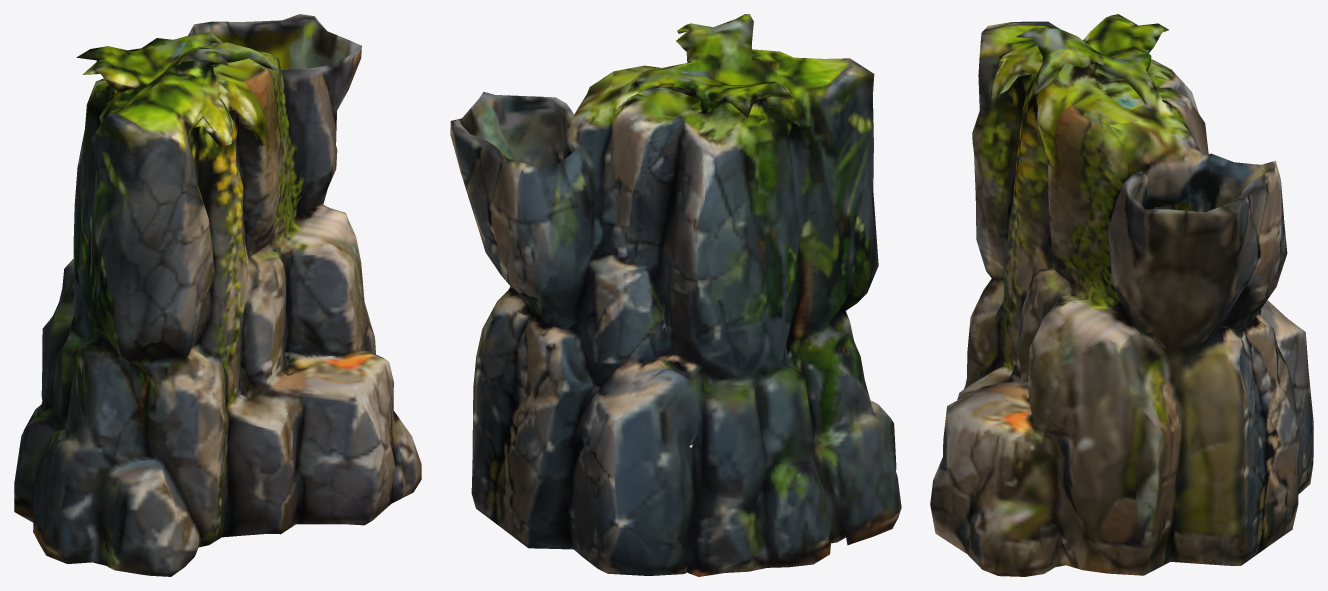
Rendered from SummerDecor_BossRoom_CliffPillar.fbx.
3 views of the same model, side by side, from view 1: azimuth 30°, elevation 25°; view 2: azimuth 150°, elevation 25°; view 3: azimuth 270°, elevation 25° (orthographic).
Visible parts, largest first — view 1: SummerDecor_BossRoom_CliffPillar_Mesh; view 2: SummerDecor_BossRoom_CliffPillar_Mesh; view 3: SummerDecor_BossRoom_CliffPillar_Mesh.
Part boxes in pixels (left/top/right/bottom): SummerDecor_BossRoom_CliffPillar_Mesh: left=14, top=14, right=421, bottom=576; SummerDecor_BossRoom_CliffPillar_Mesh: left=450, top=14, right=901, bottom=576; SummerDecor_BossRoom_CliffPillar_Mesh: left=930, top=14, right=1313, bottom=576.
Size of the model in its own units: 4.81 by 6 by 4.41.
1 material, 1 textured.
